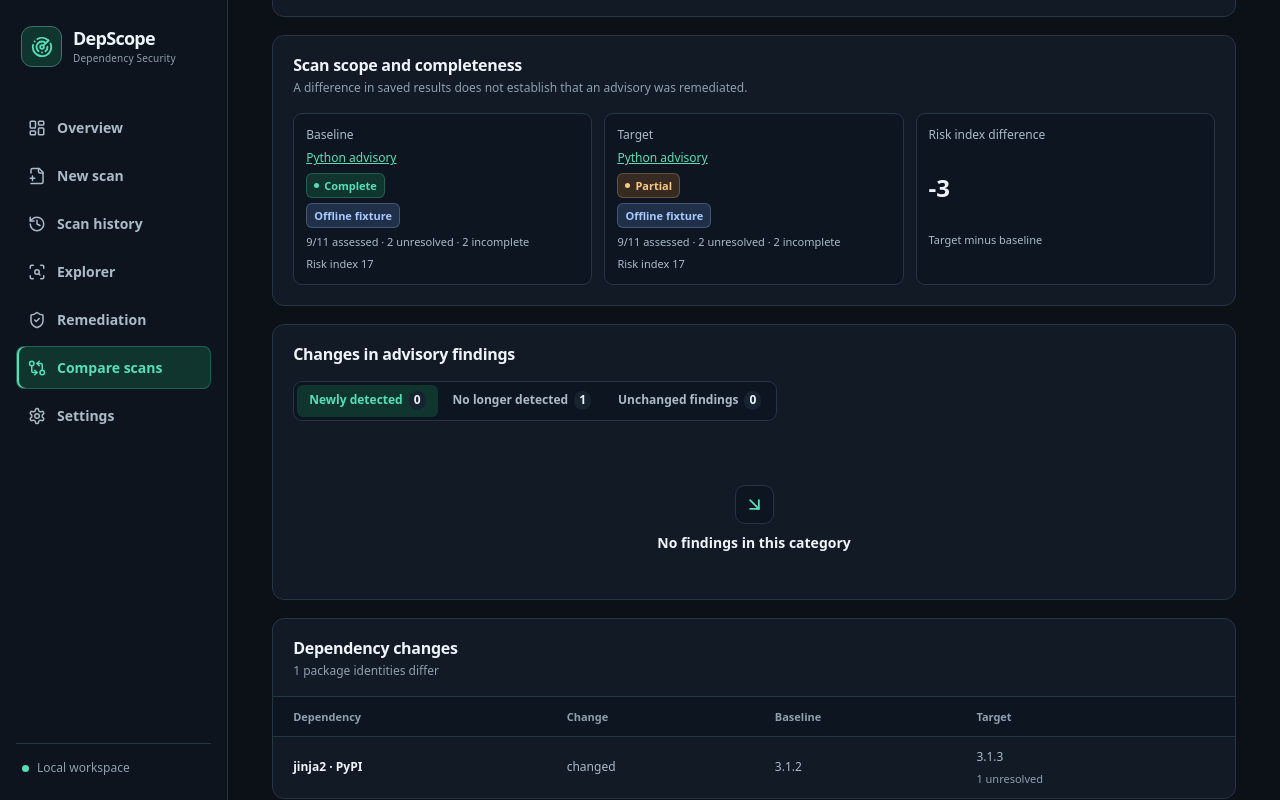
it: Phase 4 analysis and reports › shows comparison coverage and keeps disappeared findings distinct from remediation
(page scrolled)
Expected: the text "-3" is shown, x1=929 y1=174 x2=950 y2=226
Click the button "No longer detected 1" at (522, 401), box x1=441 y1=385 x2=603 y2=417
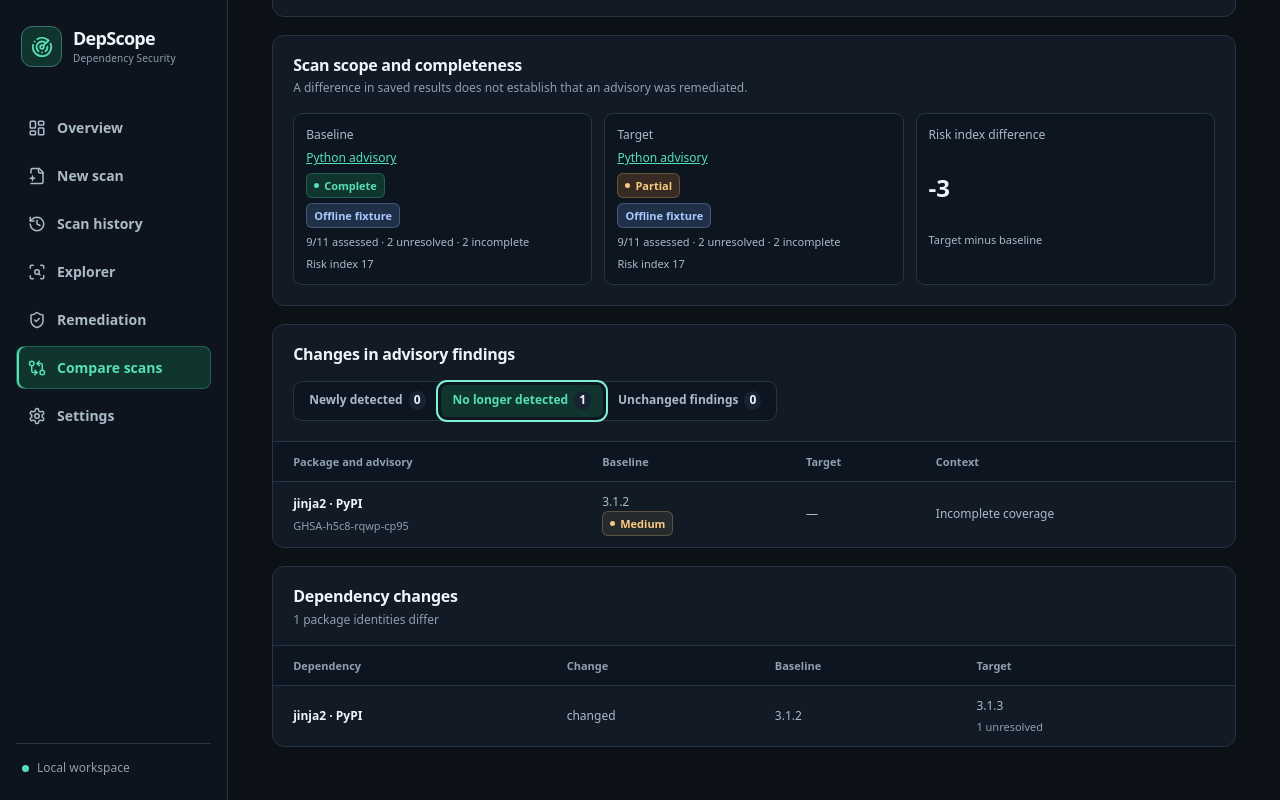
Expected: the text "does not establish that an advisory was remediated" is shown, x1=293 y1=79 x2=747 y2=96
Expected: the text "Incomplete coverage" is shown, x1=922 y1=481 x2=1235 y2=547
